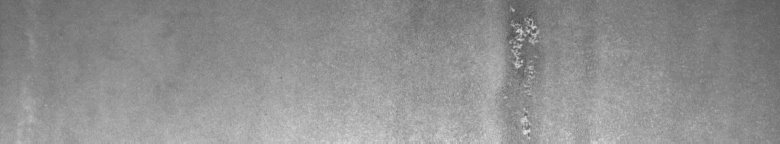hc: (499, 4, 545, 136)
